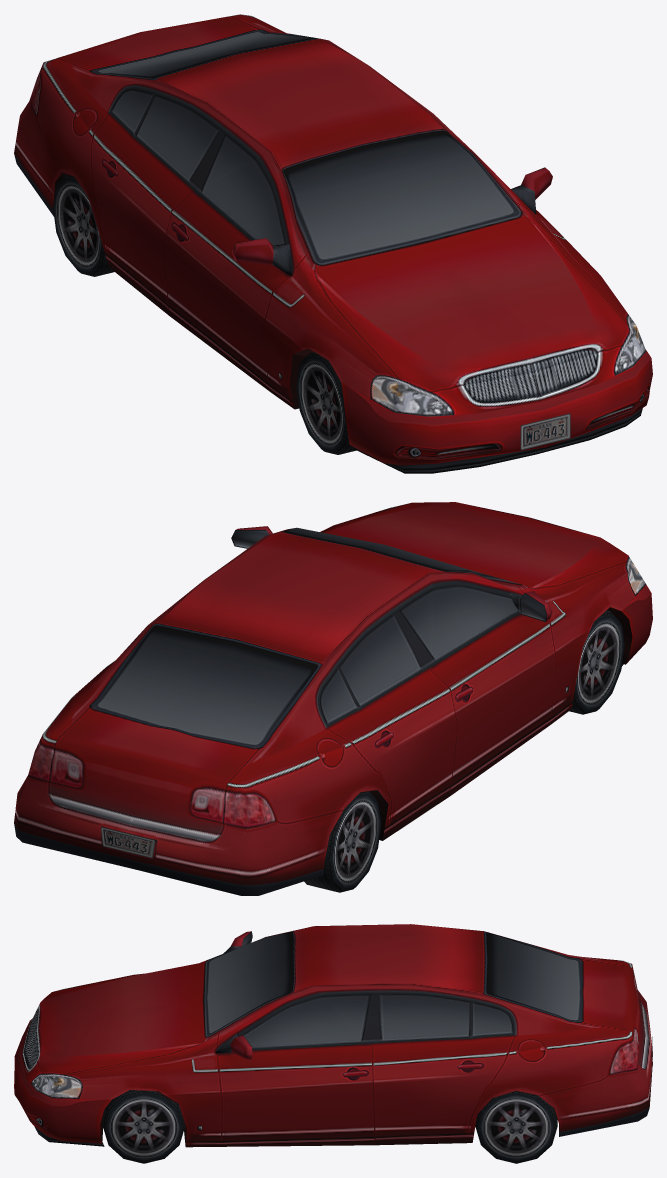
The model's file is Saloon.fbx.
The picture shows the model from 3 angles, top to bottom: view 1: azimuth 30°, elevation 25°; view 2: azimuth 150°, elevation 25°; view 3: azimuth 270°, elevation 25°; orthographic projection. The views are drawn at different scales.
Parts seen in each view (by area): view 1: Saloon, Saloon_Wheel_Front_R, Saloon_Wheel_Rear_R; view 2: Saloon, Saloon_Wheel_Rear_R, Saloon_Wheel_Front_R; view 3: Saloon, Saloon_Wheel_Front_L, Saloon_Wheel_Rear_L.
Part boxes in pixels (box(x1,y1,x2,y2)): Saloon: box(14, 14, 652, 473); Saloon_Wheel_Front_R: box(296, 352, 356, 454); Saloon_Wheel_Rear_R: box(53, 174, 114, 276); Saloon: box(14, 502, 652, 895); Saloon_Wheel_Rear_R: box(304, 791, 381, 892); Saloon_Wheel_Front_R: box(569, 610, 624, 714); Saloon: box(14, 924, 652, 1147); Saloon_Wheel_Front_L: box(103, 1090, 184, 1163); Saloon_Wheel_Rear_L: box(475, 1091, 557, 1163).
Bounding box in the file's own units: 3.15 × 2 × 7.15.
